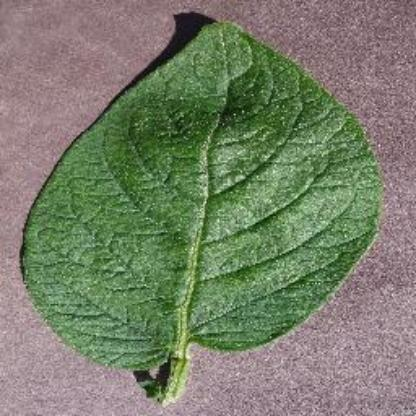Healthy-plant: (20, 18, 384, 404)
